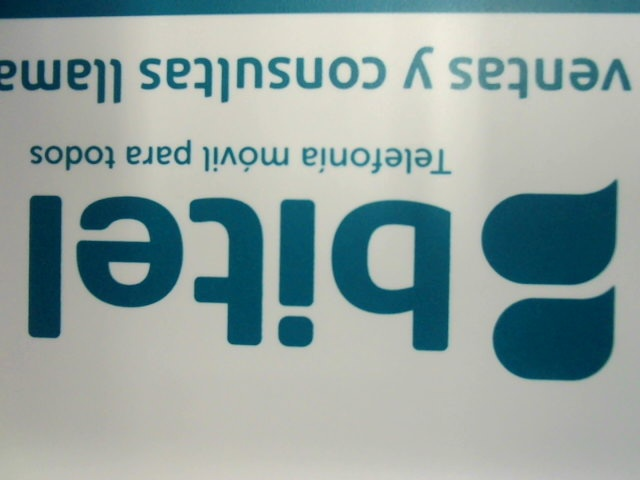BE_bitel: (19, 177, 629, 383)
